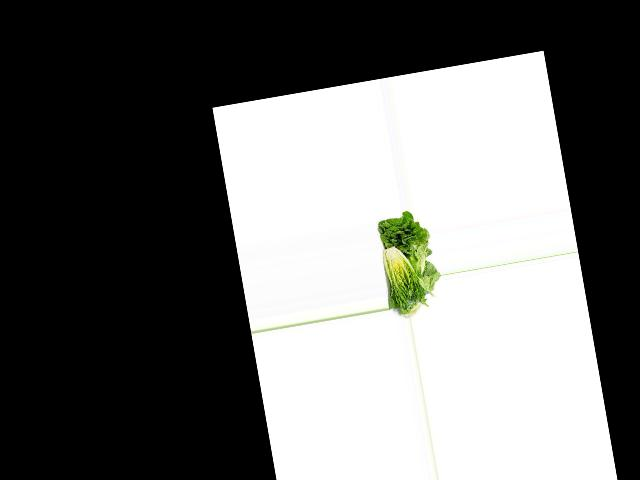lettuce: (372, 209, 435, 279)
